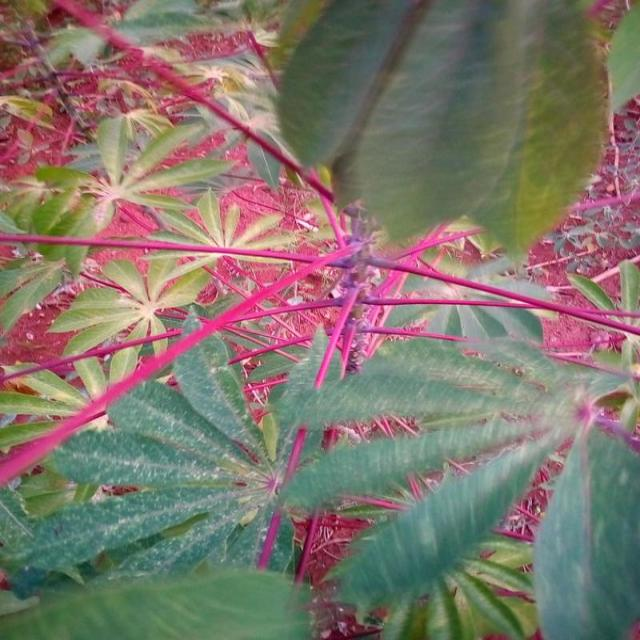cassava leaf: (0, 1, 638, 637), (274, 0, 611, 262)
